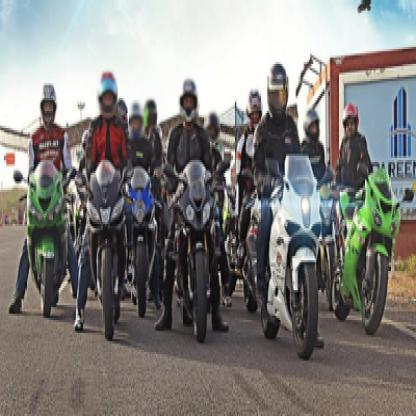Helmet: (266, 60, 292, 119), (37, 79, 62, 131), (95, 67, 119, 117), (178, 77, 200, 123), (342, 101, 365, 141), (141, 97, 162, 132), (245, 87, 263, 123), (304, 108, 323, 142), (127, 100, 144, 137), (204, 108, 223, 141)
